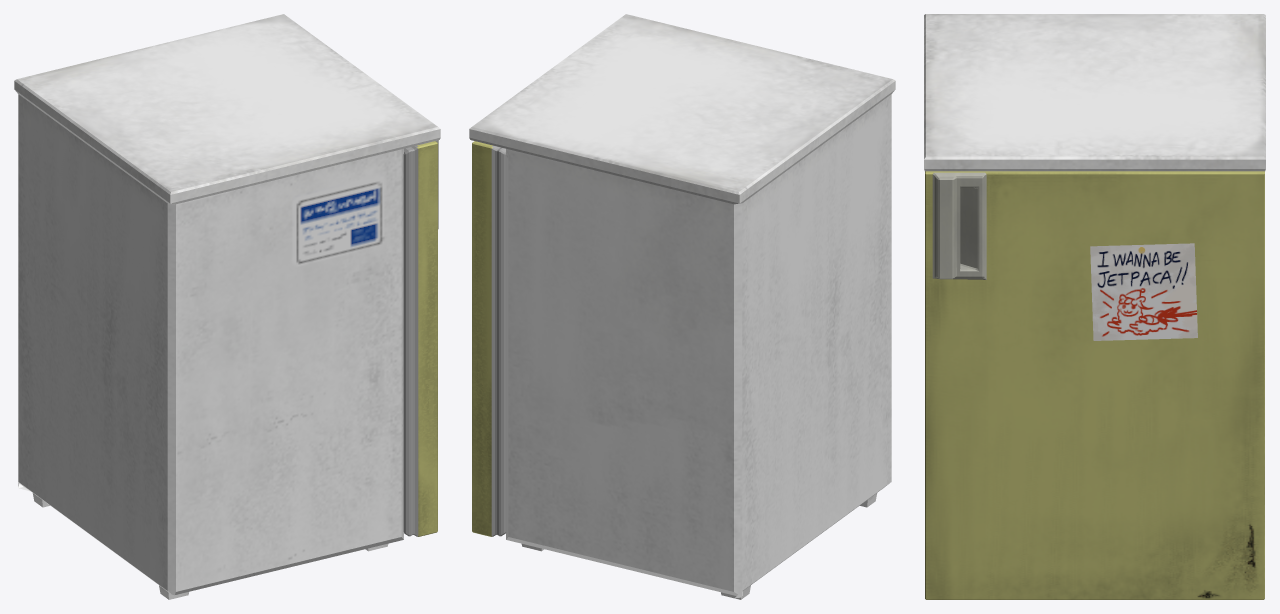
Rendered from KitchenFridge.glb.
3 views of the same model, side by side, from view 1: azimuth 30°, elevation 25°; view 2: azimuth 150°, elevation 25°; view 3: azimuth 270°, elevation 25° (orthographic). The views are drawn at different scales.
Parts seen in each view (by area): view 1: Body; view 2: Body; view 3: Body.
Boxes of the visible parts, x1,y1,x2,y2 form: Body: (14, 14, 440, 599); Body: (469, 14, 895, 599); Body: (924, 14, 1265, 599).
Size of what is drawn, in the model's own units: 2.15 by 3.11 by 2.11.
5 materials, 4 textured.
